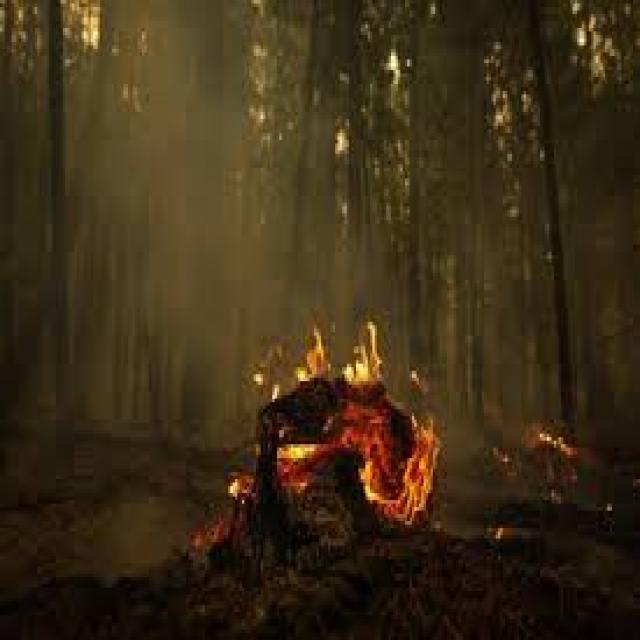Fire: (182, 304, 449, 572), (493, 406, 579, 553)
